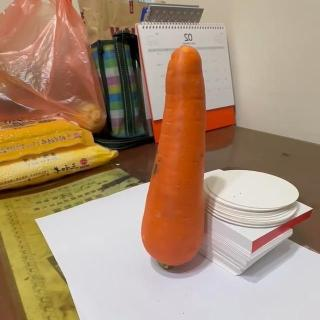carrot: (139, 44, 207, 268)
